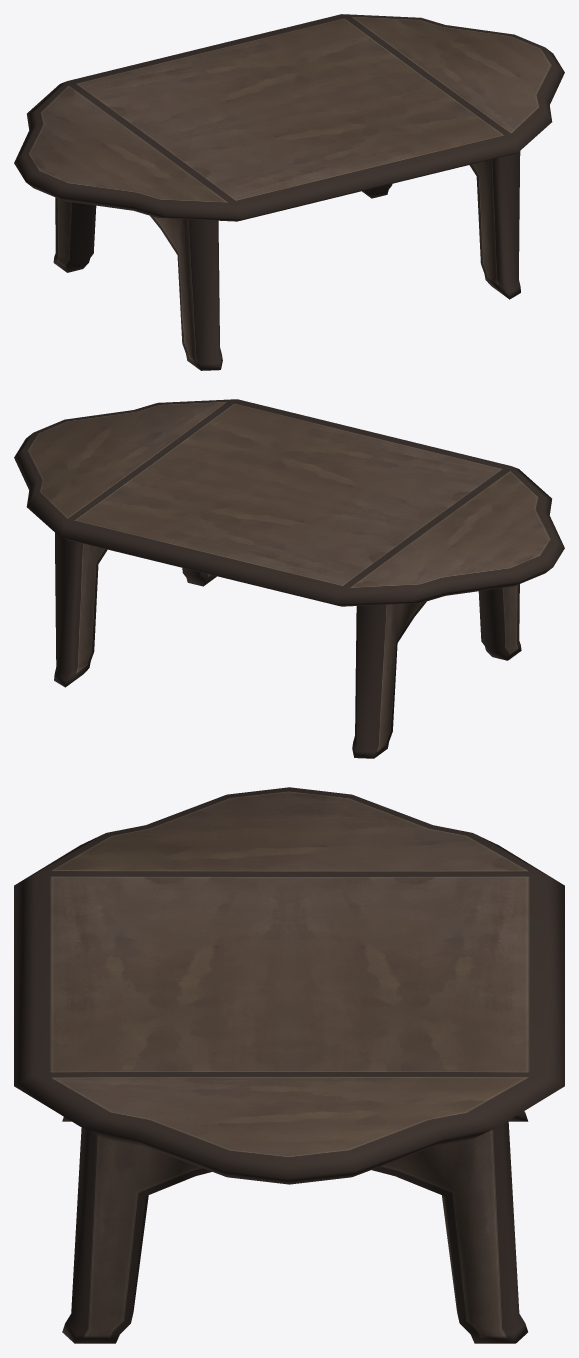
Rendered from tabletest.fbx.
3 renders of one model, top to bottom at view 1: azimuth 30°, elevation 25°; view 2: azimuth 150°, elevation 25°; view 3: azimuth 270°, elevation 25°, orthographic. The views are drawn at different scales.
Parts seen in each view (by area): view 1: tabletest; view 2: tabletest; view 3: tabletest.
Part boxes in pixels (bbox=[...]): tabletest: bbox=[14, 14, 564, 370]; tabletest: bbox=[14, 399, 564, 758]; tabletest: bbox=[14, 787, 564, 1343].
Size of the model in its own units: 2.81 by 0.8634 by 1.7.
